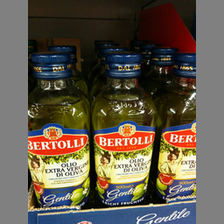oil: (92, 54, 159, 207), (29, 53, 94, 208), (153, 53, 196, 200)
